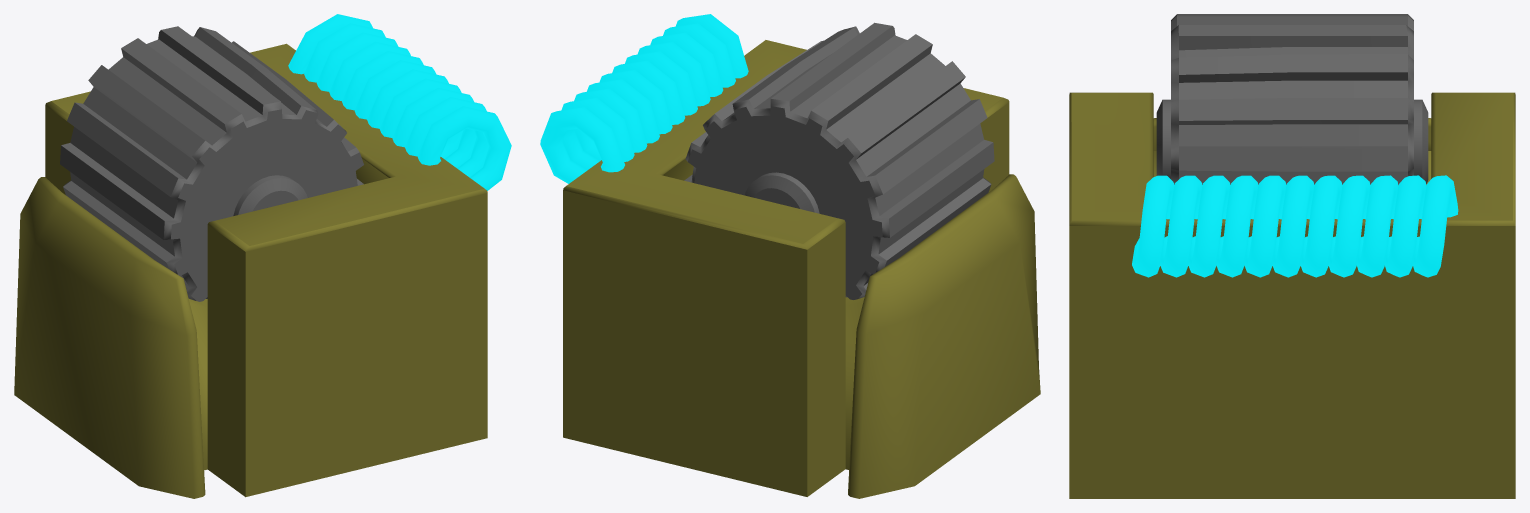
File: Turbine_Gen.fbx
The picture shows the model from 3 angles, left to right: view 1: azimuth 30°, elevation 25°; view 2: azimuth 150°, elevation 25°; view 3: azimuth 270°, elevation 25°; orthographic projection. The views are drawn at different scales.
Parts seen in each view (by area): view 1: Mechinazor, Gear, Coil; view 2: Mechinazor, Gear, Coil; view 3: Mechinazor, Gear, Coil.
Boxes of the visible parts, x1,y1,x2,y2 form: Mechinazor: [14, 43, 487, 498]; Gear: [60, 26, 363, 301]; Coil: [288, 14, 511, 190]; Mechinazor: [563, 40, 1040, 498]; Gear: [684, 22, 994, 299]; Coil: [540, 14, 748, 183]; Mechinazor: [1069, 92, 1515, 498]; Gear: [1156, 14, 1428, 184]; Coil: [1132, 175, 1458, 277].
Bounding box in the file's own units: 512 × 449 × 480.
